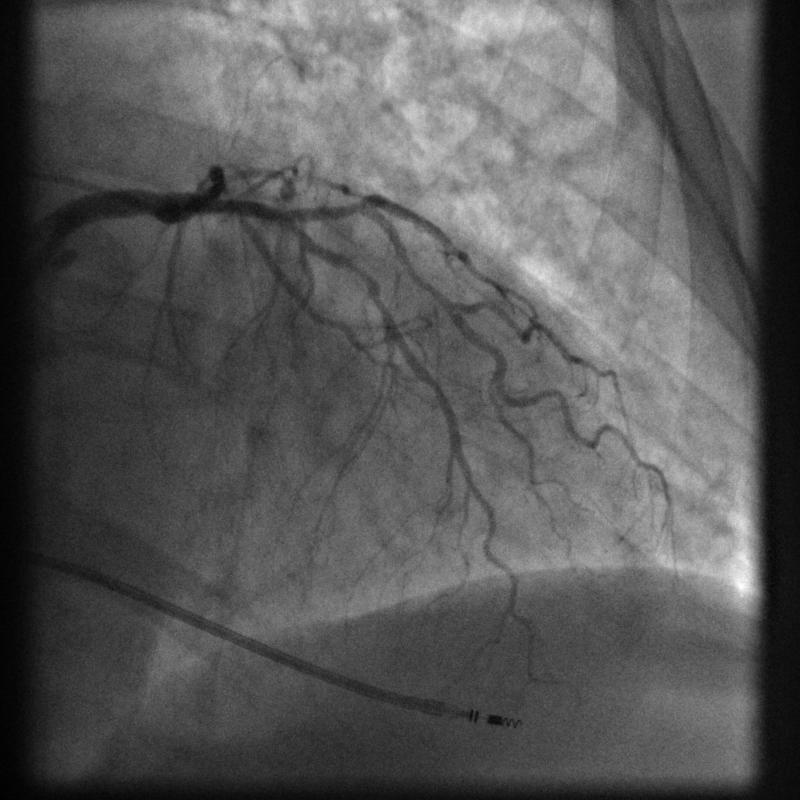Stenosis: (339, 254, 377, 299)
